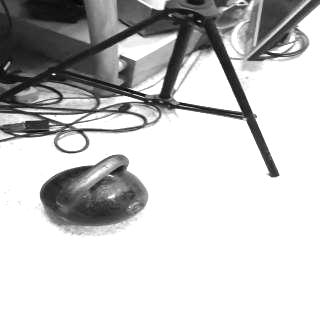kettlebell: (37, 155, 147, 227)
